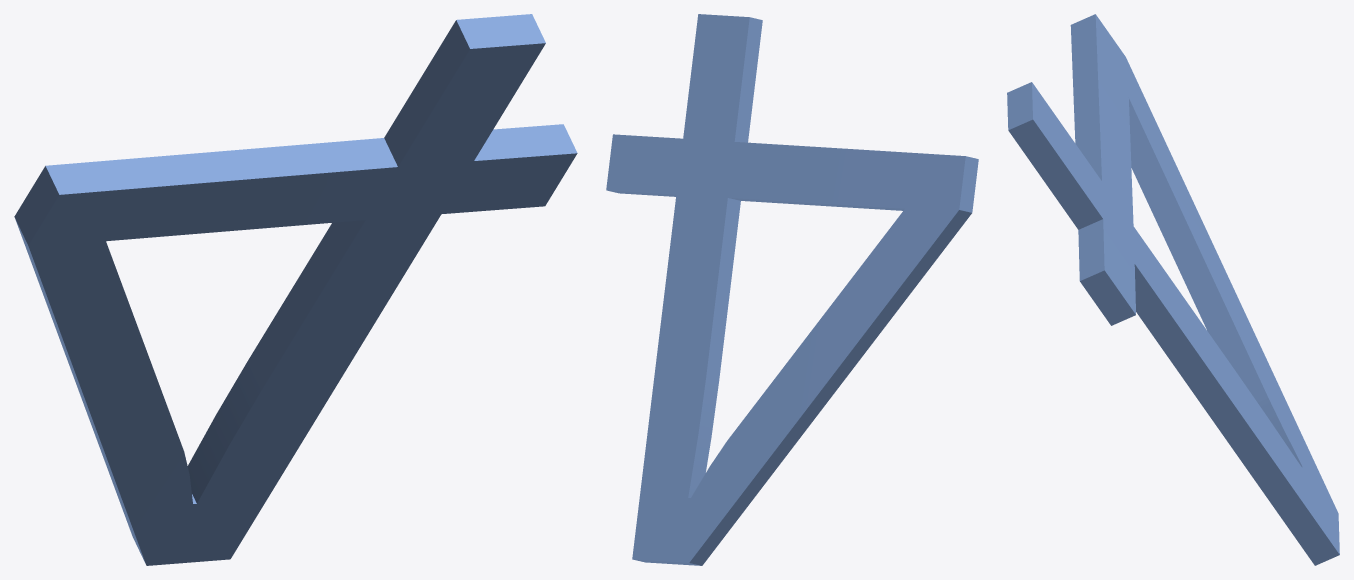
File: New_Number_4.gltf
3 views of the same model, side by side, from view 1: azimuth 30°, elevation 25°; view 2: azimuth 150°, elevation 25°; view 3: azimuth 270°, elevation 25° (orthographic). The views are drawn at different scales.
Visible parts, largest first — view 1: Part 571; view 2: Part 571; view 3: Part 571.
Part boxes in pixels (x1=…): Part 571: x1=14, y1=14, x2=577, y2=565; Part 571: x1=606, y1=14, x2=978, y2=565; Part 571: x1=1007, y1=14, x2=1339, y2=565.
Bounding box in the file's own units: 0.00413 × 0.00493 × 0.00299.
